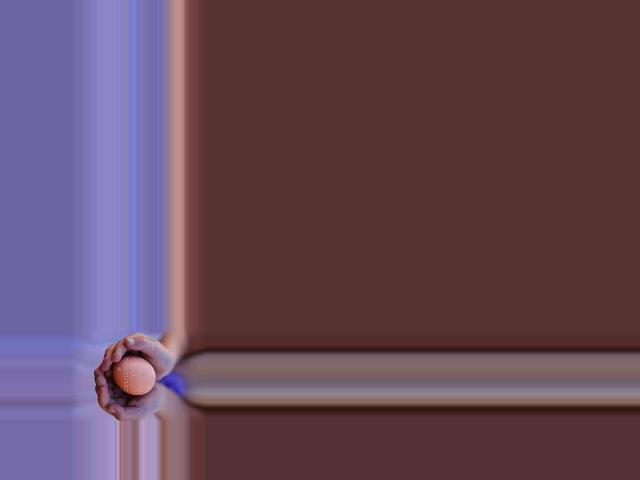egg: (112, 356, 156, 396)
